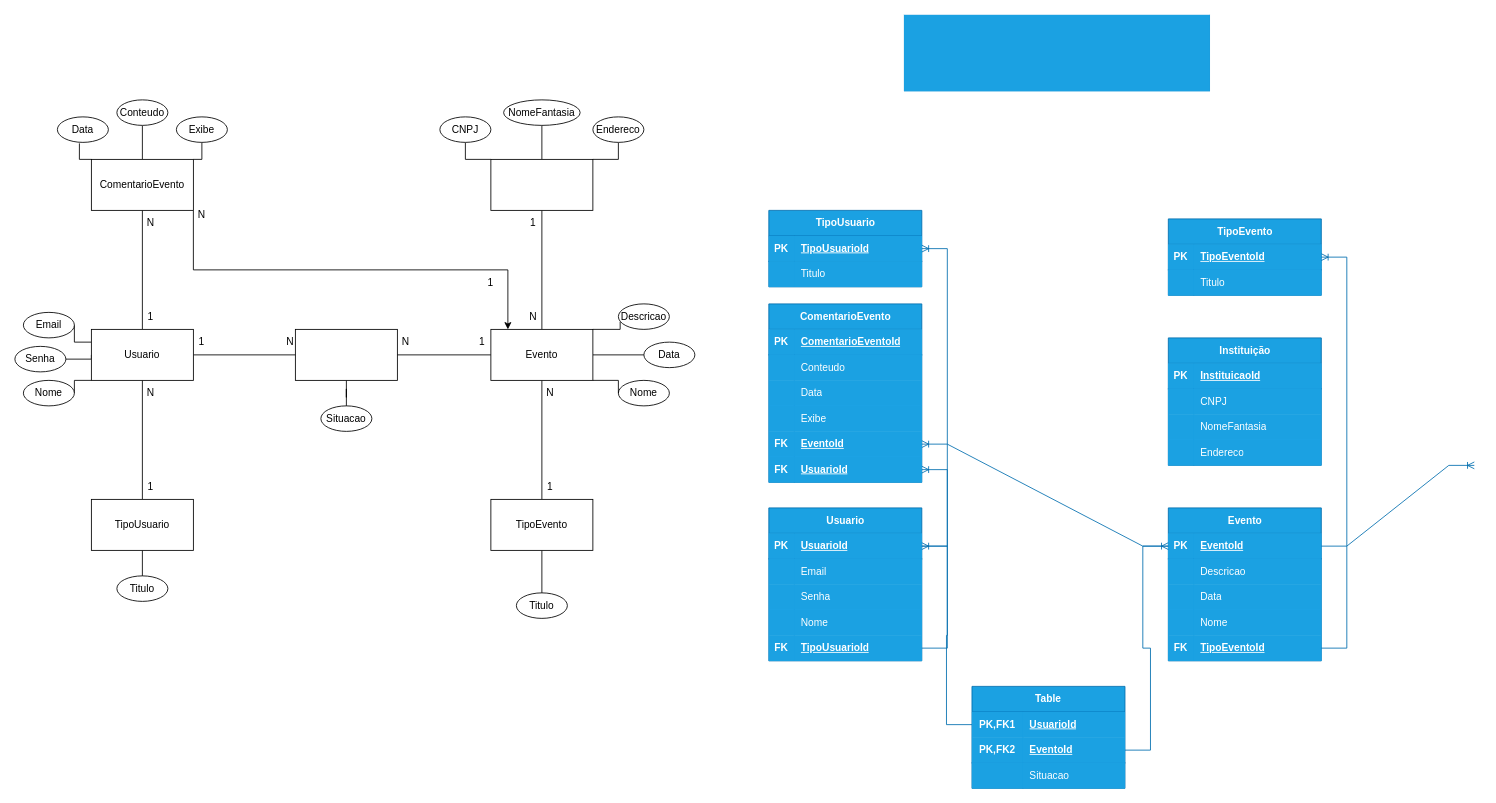
The diagram is 1496 pixels wide and 803 high, and some of its shapes have lost their labels. Each missing label, with the centre of its shape:
"Instituiçao" goes at point 541,184.
"Modelo Lógico" goes at point 1057,52.
"Presença" goes at point 346,354.
